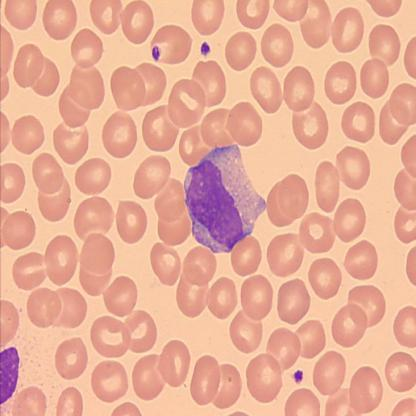Monocyte: (183, 142, 268, 256)
